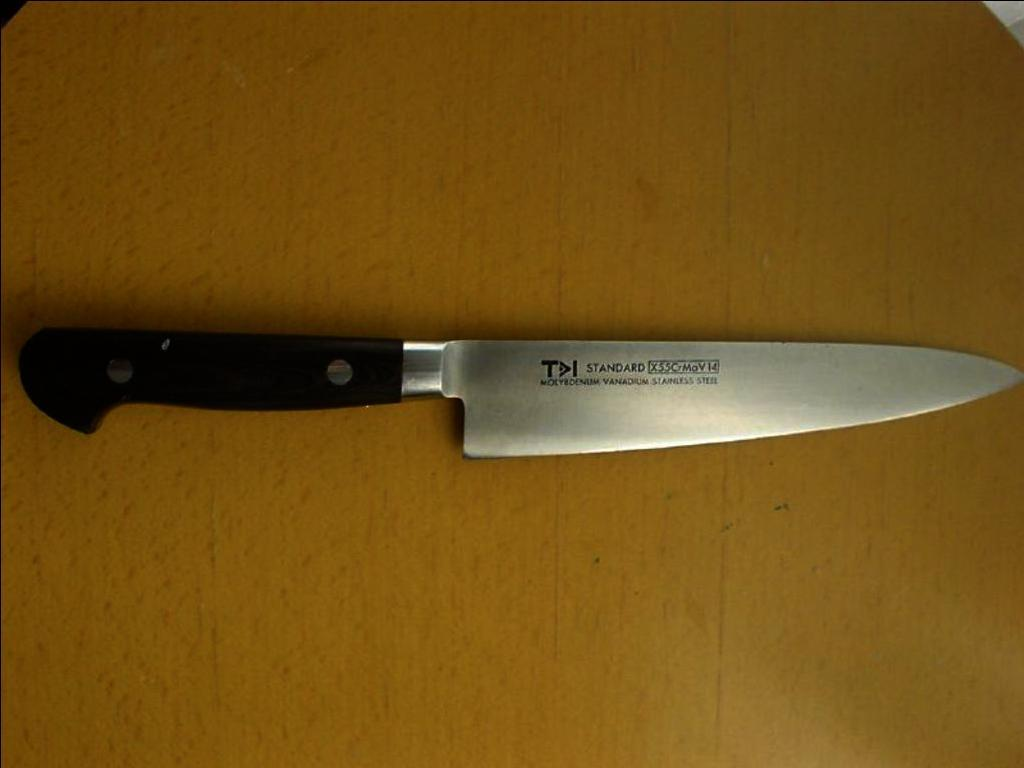melee: (14, 318, 1022, 462)
